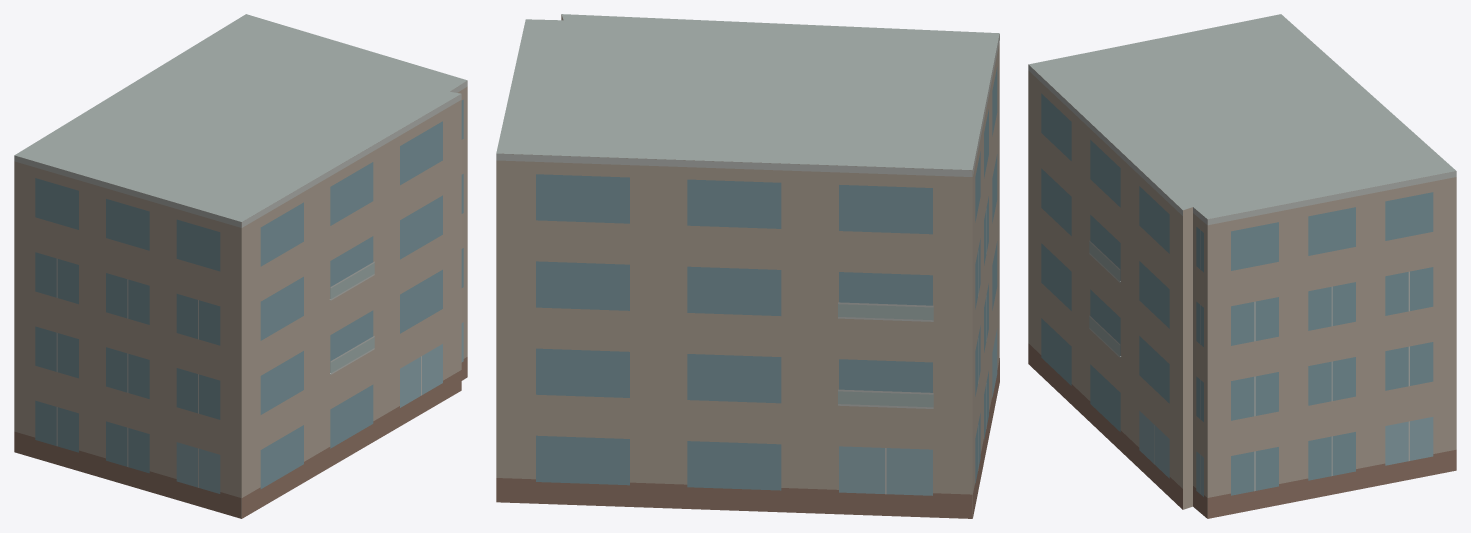
File: survey-upis-32740665.glb
3 views of the same model, side by side, from view 1: azimuth 30°, elevation 25°; view 2: azimuth 150°, elevation 25°; view 3: azimuth 270°, elevation 25° (orthographic). The views are drawn at different scales.
Parts seen in each view (by area): view 1: survey-upis-32740665.tmp; view 2: survey-upis-32740665.tmp; view 3: survey-upis-32740665.tmp.
Part boxes in pixels (x1,y1,x2,y2): survey-upis-32740665.tmp: (14, 14, 467, 518); survey-upis-32740665.tmp: (496, 14, 999, 518); survey-upis-32740665.tmp: (1028, 14, 1456, 518).
Bounding box in the file's own units: 17.94 × 12.2 × 15.81.
